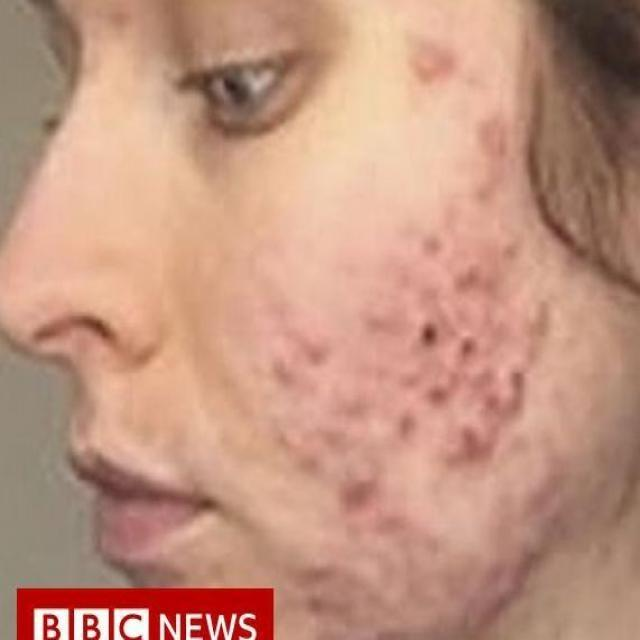Acne: (250, 15, 556, 625)
